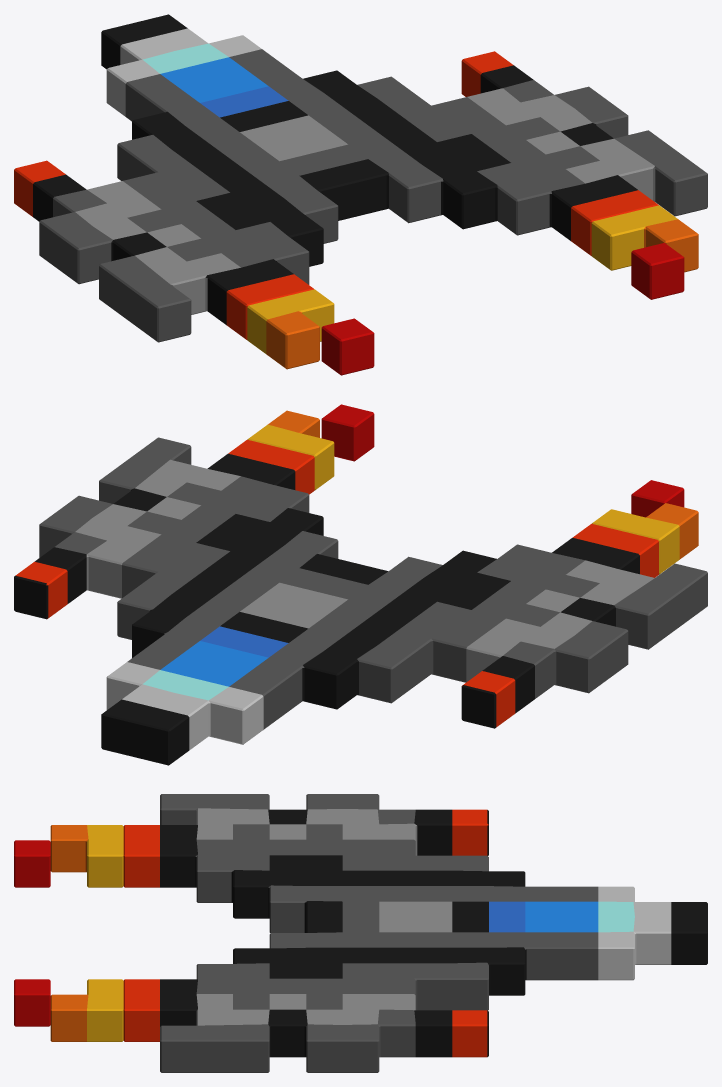
Rendered from Nave3.fbx.
3 views of the same model, one above another, from view 1: azimuth 30°, elevation 25°; view 2: azimuth 150°, elevation 25°; view 3: azimuth 270°, elevation 25° (orthographic). The views are drawn at different scales.
Parts seen in each view (by area): view 1: Plane.011; view 2: Plane.011; view 3: Plane.011.
Part boxes in pixels (bbox=[...]): Plane.011: bbox=[14, 14, 707, 375]; Plane.011: bbox=[14, 404, 707, 765]; Plane.011: bbox=[14, 794, 707, 1072].
Size of the model in its own units: 1600 by 100 by 1900.
